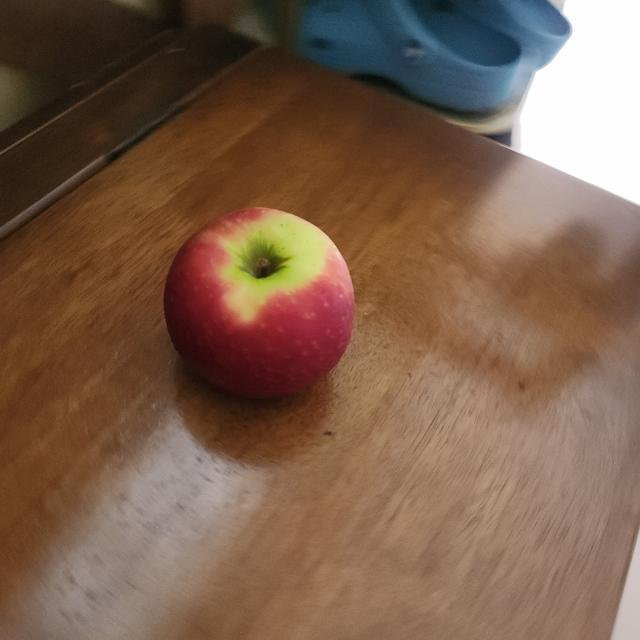apple: (159, 192, 362, 406)
